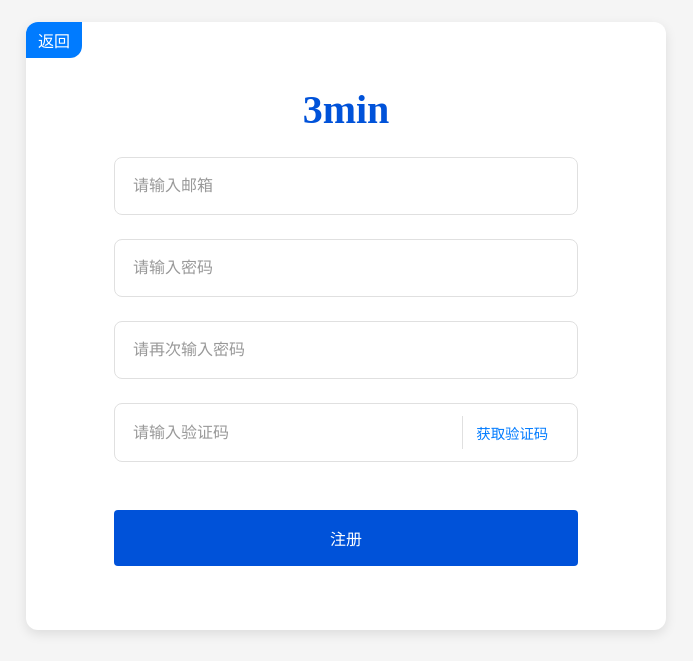
Register Page › 删除邮箱内容时应显示错误提示
In the field with placeholder "请输入邮箱": (346, 186) [131,176,561,196], type "test@example.com"
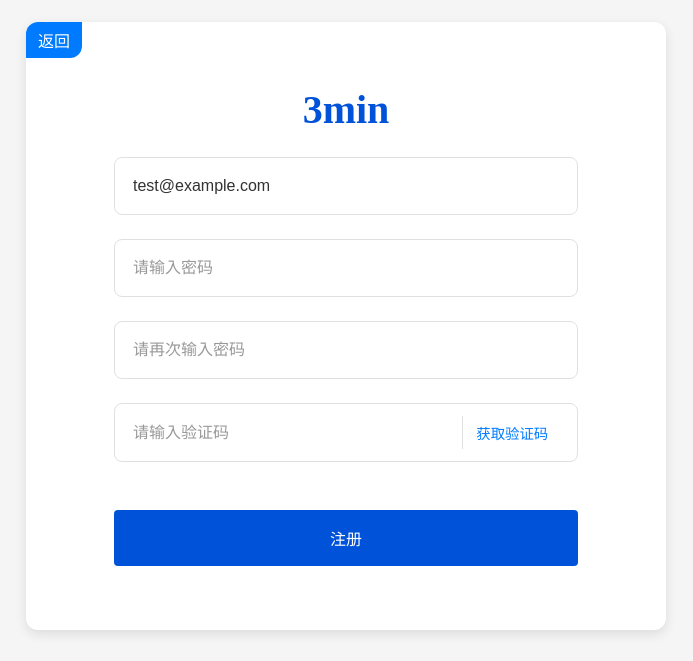
Expected: the text "请输入邮箱" is not shown
Clear the field with placeholder "请输入邮箱": (346, 186) [131,176,561,196]
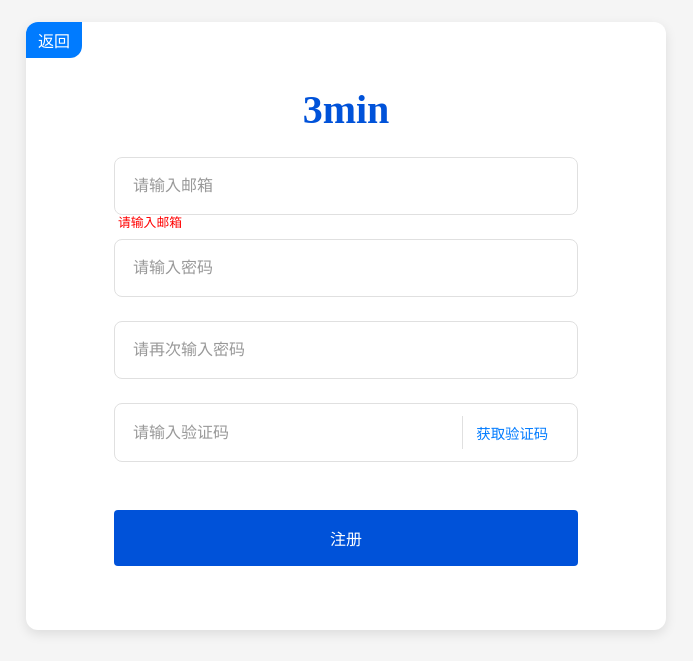
Result: the text "请输入邮箱" is shown at [118,216,182,230]
